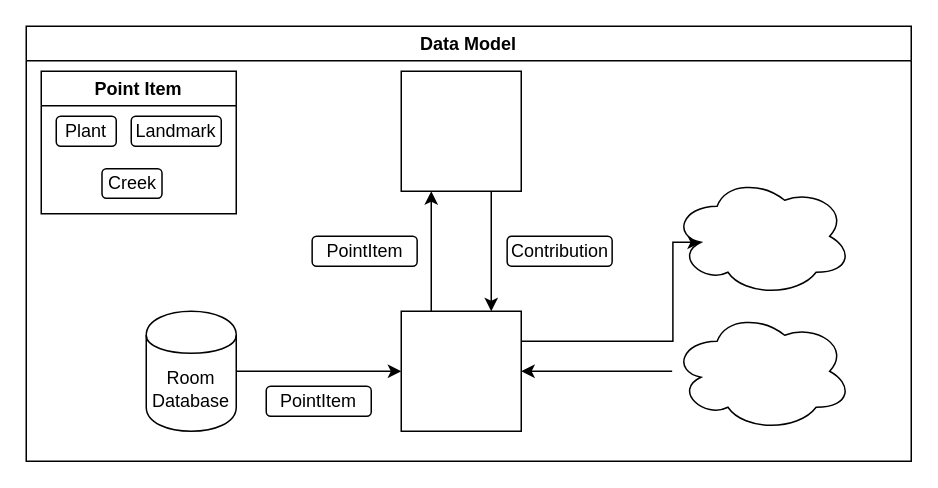
The diagram is 938 pixels wide and 488 high, and some of its shapes have lost their labels. Here are the shapes that lost their labels. From the top down, the centre of each, then its label:
At pixel 460 130: "ViewModel".
At pixel 761 235: "Contributions Web API".
At pixel 460 370: "Repository".
At pixel 761 370: "Migrations Updates Web API".
